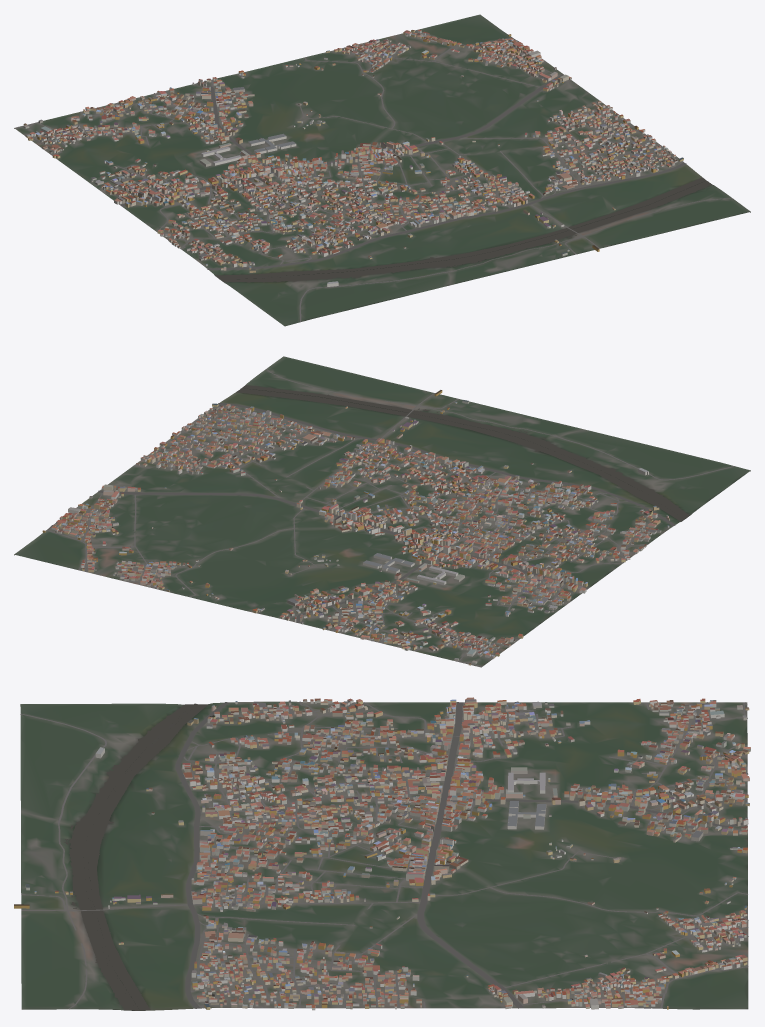
The picture shows the model from 3 angles, top to bottom: view 1: azimuth 30°, elevation 25°; view 2: azimuth 150°, elevation 25°; view 3: azimuth 270°, elevation 25°; orthographic projection. The views are drawn at different scales.
Visible parts, largest first — view 1: ground, buildings, roads, water; view 2: ground, buildings, roads, water; view 3: ground, buildings, roads, water.
Part boxes in pixels (x1=…): ground: x1=14, y1=14, x2=750, y2=326; buildings: x1=23, y1=29, x2=683, y2=286; roads: x1=15, y1=30, x2=733, y2=322; water: x1=215, y1=177, x2=711, y2=282; ground: x1=14, y1=356, x2=750, y2=667; buildings: x1=42, y1=390, x2=669, y2=665; roads: x1=47, y1=369, x2=734, y2=666; water: x1=236, y1=385, x2=689, y2=521; ground: x1=20, y1=701, x2=748, y2=1010; buildings: x1=14, y1=697, x2=750, y2=1010; roads: x1=20, y1=701, x2=748, y2=1009; water: x1=64, y1=703, x2=207, y2=1010.
Size of the model in its own units: 1413 by 25.88 by 1421.
